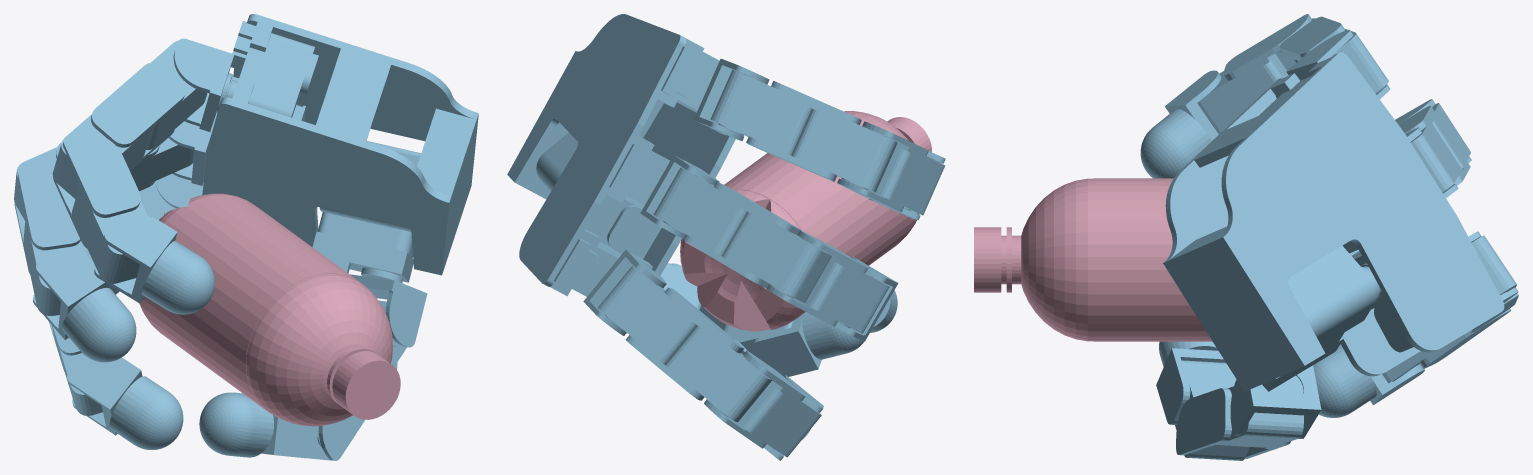
The picture shows the model from 3 angles, left to right: view 1: azimuth 30°, elevation 25°; view 2: azimuth 150°, elevation 25°; view 3: azimuth 270°, elevation 25°; orthographic projection. The views are drawn at different scales.
Parts seen in each view (by area): view 1: world, water_bottle.stl; view 2: world, water_bottle.stl; view 3: world, water_bottle.stl.
Boxes of the visible parts, left/top/right/bottom form: world: left=14, top=14, right=478, bottom=460; water_bottle.stl: left=139, top=193, right=400, bottom=426; world: left=507, top=14, right=945, bottom=460; water_bottle.stl: left=680, top=111, right=931, bottom=331; world: left=1140, top=14, right=1518, bottom=460; water_bottle.stl: left=974, top=178, right=1212, bottom=341.
Size of the model in its own units: 0.1825 by 0.1691 by 0.2009.
